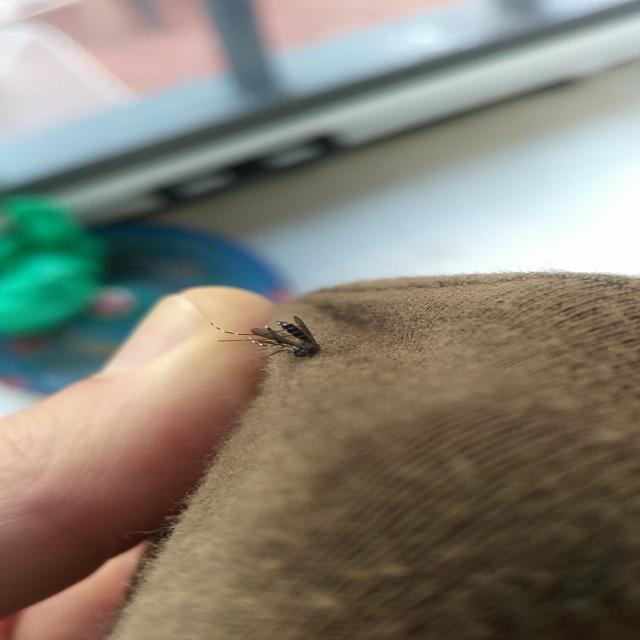albopictus: (199, 306, 325, 362)
